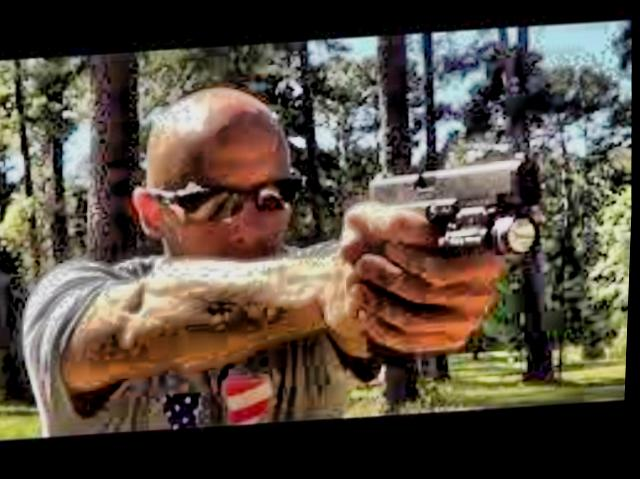pistol: (358, 152, 549, 372)
